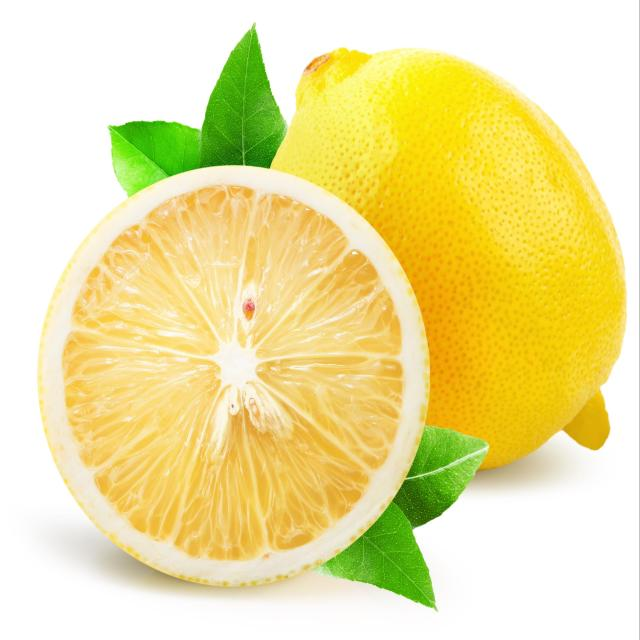lemon: (32, 157, 436, 594)
